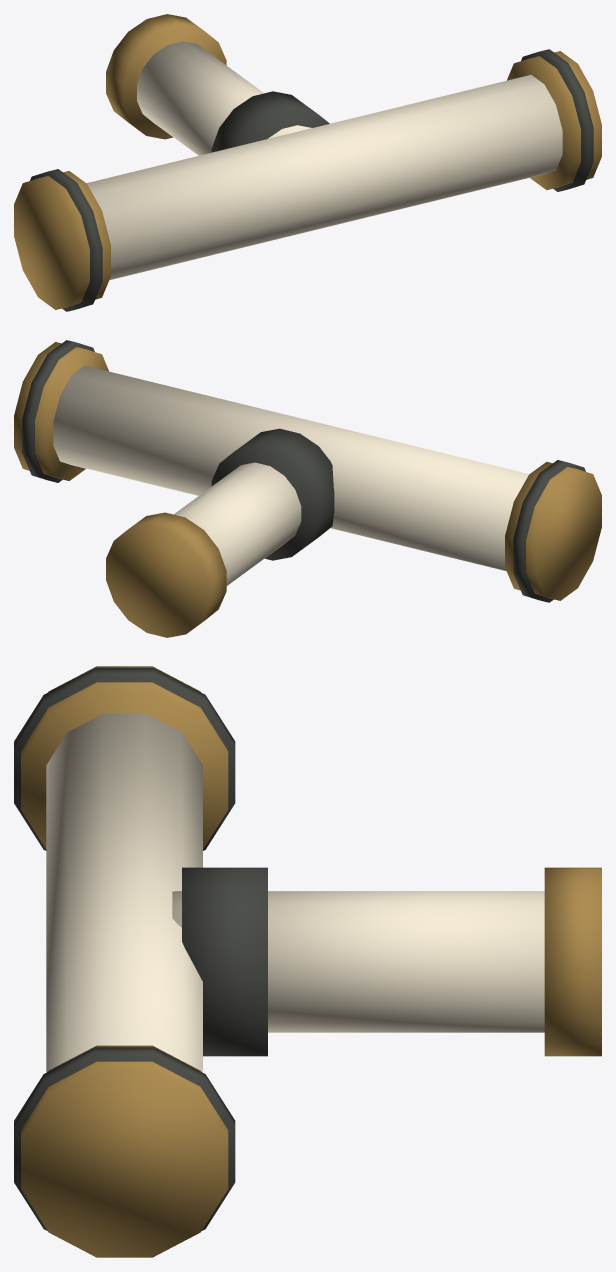
Rendered from b1_pipe_tee.glb.
3 views of the same model, one above another, from view 1: azimuth 30°, elevation 25°; view 2: azimuth 150°, elevation 25°; view 3: azimuth 270°, elevation 25° (orthographic). The views are drawn at different scales.
Parts seen in each view (by area): view 1: b1_pipe_tee; view 2: b1_pipe_tee; view 3: b1_pipe_tee.
Part boxes in pixels (bbox=[...]): b1_pipe_tee: bbox=[14, 14, 601, 311]; b1_pipe_tee: bbox=[14, 340, 601, 637]; b1_pipe_tee: bbox=[14, 666, 601, 1257].
Size of the model in its own units: 2 by 0.4636 by 1.23.
